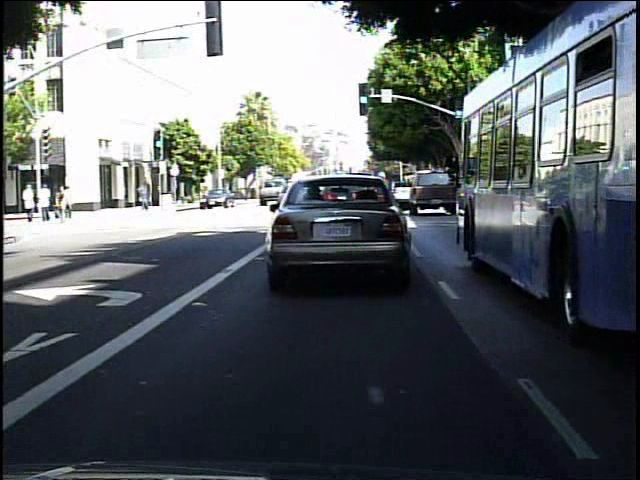person: (20, 180, 38, 224), (135, 179, 153, 215), (38, 182, 53, 223), (54, 184, 69, 223), (51, 185, 66, 221), (63, 181, 64, 221)
